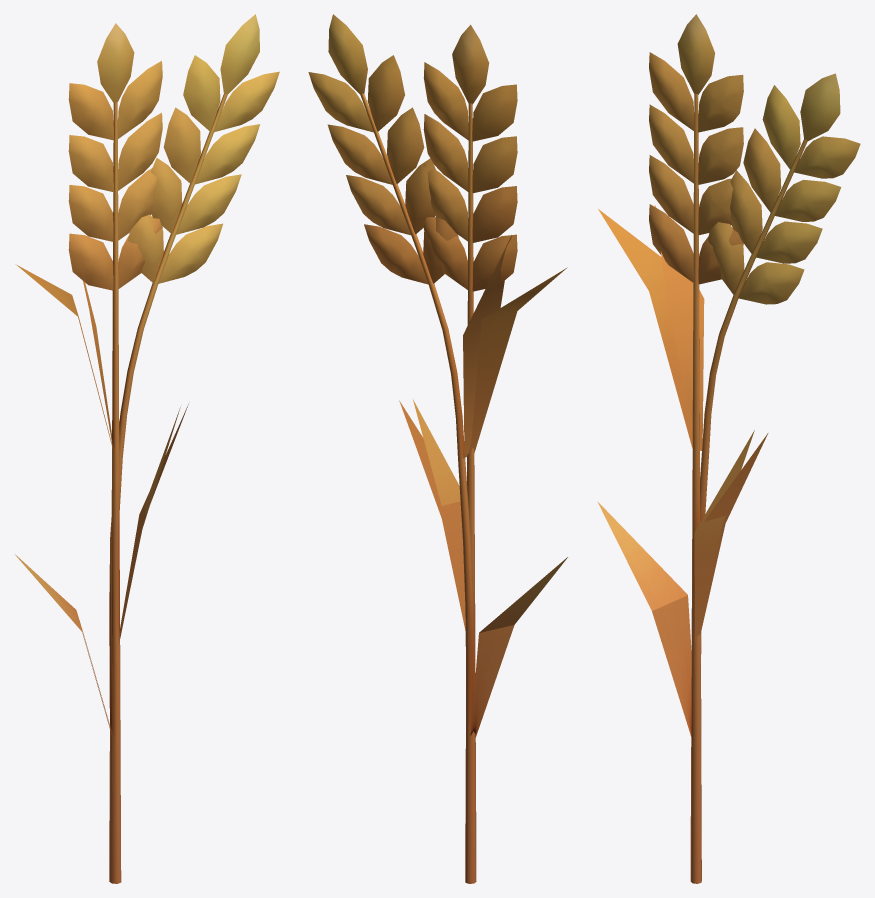
File: Grp_Trigo.fbx
3 views of the same model, side by side, from view 1: azimuth 30°, elevation 25°; view 2: azimuth 150°, elevation 25°; view 3: azimuth 330°, elevation 25° (orthographic).
Visible parts, largest first — view 1: base_trigo, base_trigo2; view 2: base_trigo2, base_trigo; view 3: base_trigo, base_trigo2.
Part boxes in pixels (x1,y1,x2,y2): base_trigo: (15, 23, 180, 883); base_trigo2: (15, 14, 279, 883); base_trigo2: (308, 14, 567, 883); base_trigo: (413, 24, 567, 814); base_trigo: (598, 14, 754, 883); base_trigo2: (597, 73, 860, 862).
Bounding box in the file's own units: 408 × 1272 × 83.99.
